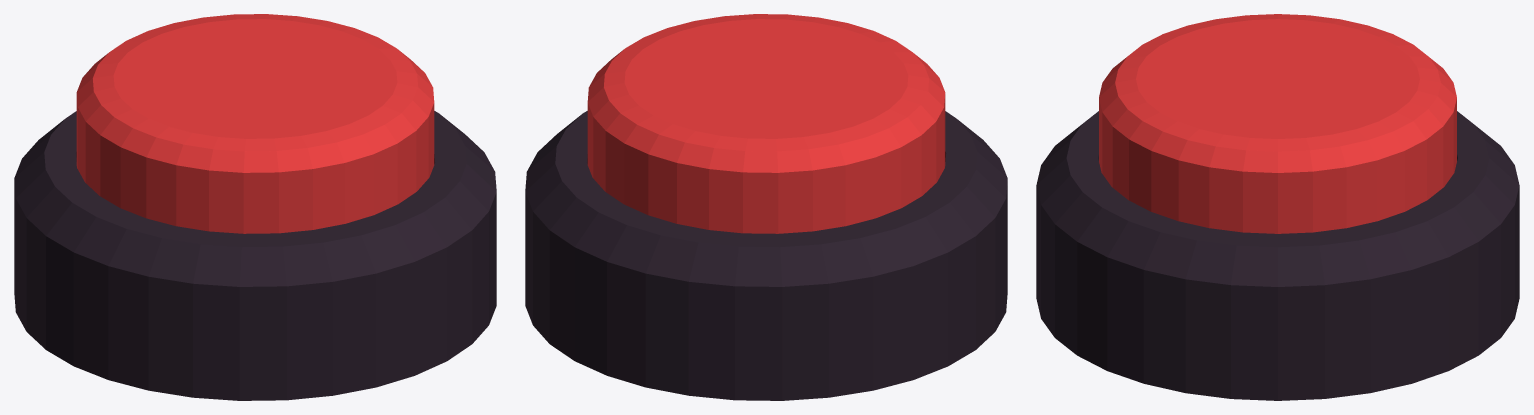
File: Button.fbx
3 views of the same model, side by side, from view 1: azimuth 30°, elevation 25°; view 2: azimuth 150°, elevation 25°; view 3: azimuth 270°, elevation 25° (orthographic).
Parts seen in each view (by area): view 1: Cylinder, Cylinder.001; view 2: Cylinder, Cylinder.001; view 3: Cylinder, Cylinder.001.
Part boxes in pixels (x1,y1,x2,y2): Cylinder: (14,111,496,400); Cylinder.001: (76,14,434,233); Cylinder: (525,111,1007,400); Cylinder.001: (587,14,945,233); Cylinder: (1036,111,1519,400); Cylinder.001: (1099,14,1456,233).
Bounding box in the file's own units: 49.89 × 25.32 × 49.89.
